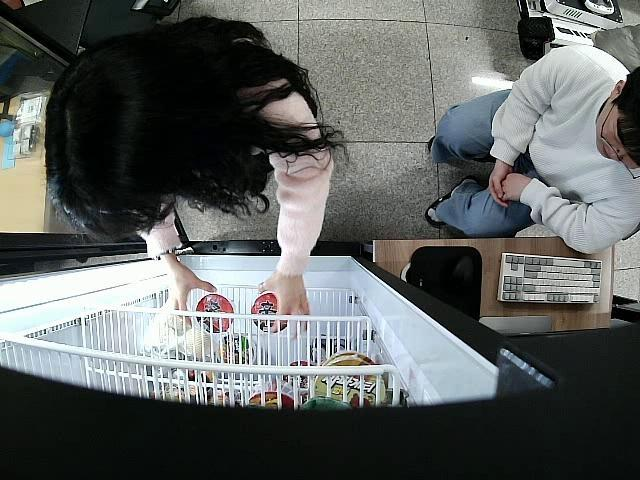02_shinRamen_S: (252, 292, 289, 333), (195, 294, 234, 332)
